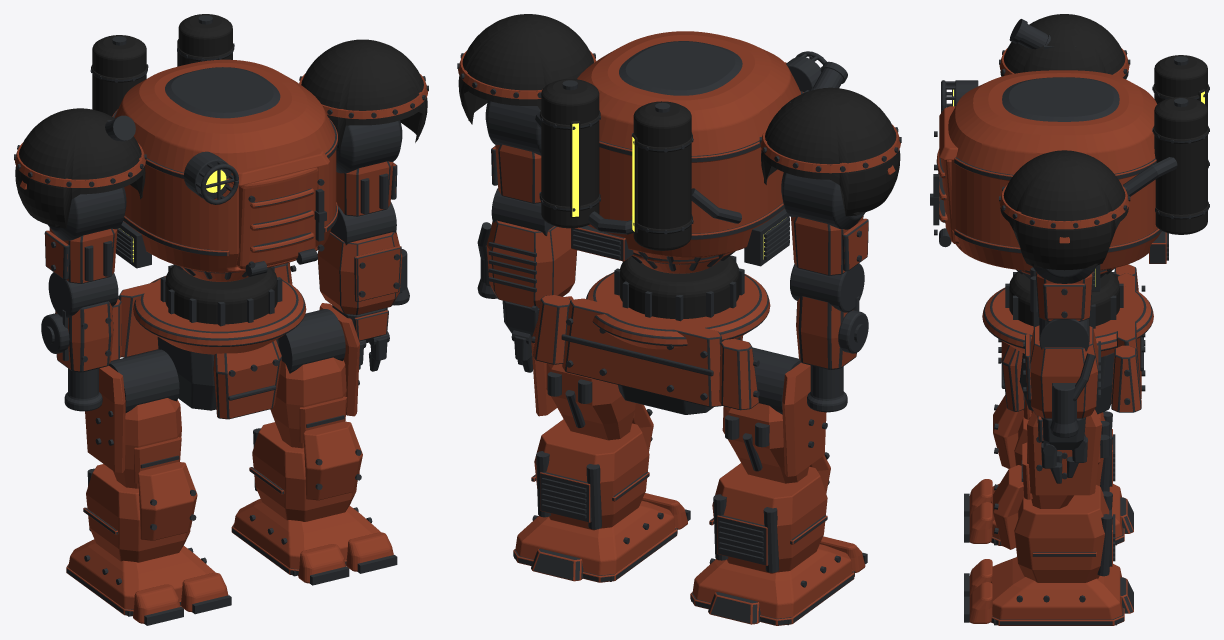
File: Titan_H1.fbx
3 views of the same model, side by side, from view 1: azimuth 30°, elevation 25°; view 2: azimuth 150°, elevation 25°; view 3: azimuth 270°, elevation 25° (orthographic). The views are drawn at different scales.
Visible parts, largest first — view 1: H1_Torso_Upper, H1_Pelvis, H1_Shoulder_R, H1_Thigh_R, H1_Thigh_L, H1_Shoulder_L, H1_Shin_R, H1_Shin_L, H1_Forearm_L, H1_Hatch, H1_Cannon, H1_UpperArm_R (+12 smaller); view 2: H1_Torso_Upper, H1_Pelvis, H1_Shoulder_R, H1_Shin_L, H1_Shin_R, H1_Shoulder_L, H1_Thigh_R, H1_Tank_R, H1_Forearm_L, H1_Tank_L, H1_Foot_L, H1_Foot_R (+13 smaller); view 3: H1_Torso_Upper, H1_Shoulder_L, H1_Shin_L, H1_Pelvis, H1_Forearm_L, H1_Foot_L, H1_Tank_L, H1_Shoulder_R, H1_Thigh_L, H1_UpperArm_L, H1_Shin_R, H1_Waist (+10 smaller).
Part boxes in pixels (left/top/right/bottom): H1_Torso_Upper: left=112, top=59, right=337, bottom=272; H1_Pelvis: left=111, top=262, right=306, bottom=419; H1_Shoulder_R: left=14, top=108, right=146, bottom=228; H1_Thigh_R: left=85, top=349, right=181, bottom=488; H1_Thigh_L: left=270, top=303, right=359, bottom=448; H1_Shoulder_L: left=299, top=39, right=428, bottom=150; H1_Shin_R: left=83, top=462, right=197, bottom=562; H1_Shin_L: left=249, top=421, right=362, bottom=521; H1_Forearm_L: left=317, top=201, right=409, bottom=315; H1_Hatch: left=236, top=167, right=326, bottom=276; H1_Cannon: left=41, top=272, right=118, bottom=411; H1_UpperArm_R: left=44, top=187, right=126, bottom=283; H1_Torso_Upper: left=571, top=31, right=803, bottom=261; H1_Pelvis: left=531, top=272, right=770, bottom=414; H1_Shoulder_R: left=759, top=61, right=901, bottom=216; H1_Shin_L: left=531, top=403, right=653, bottom=530; H1_Shin_R: left=709, top=452, right=830, bottom=573; H1_Shoulder_L: left=457, top=14, right=596, bottom=124; H1_Thigh_R: left=722, top=347, right=827, bottom=483; H1_Tank_R: left=631, top=101, right=693, bottom=250; H1_Forearm_L: left=477, top=187, right=577, bottom=308; H1_Tank_L: left=539, top=79, right=600, bottom=228; H1_Foot_L: left=513, top=500, right=677, bottom=582; H1_Foot_R: left=690, top=544, right=854, bottom=625; H1_Torso_Upper: left=939, top=70, right=1168, bottom=270; H1_Shoulder_L: left=999, top=150, right=1130, bottom=270; H1_Shin_L: left=993, top=465, right=1115, bottom=582; H1_Pelvis: left=982, top=264, right=1153, bottom=414; H1_Forearm_L: left=1023, top=318, right=1100, bottom=437; H1_Foot_L: left=991, top=557, right=1133, bottom=625; H1_Tank_L: left=1152, top=96, right=1209, bottom=234; H1_Shoulder_R: left=999, top=14, right=1130, bottom=79; H1_Thigh_L: left=1021, top=409, right=1109, bottom=508; H1_UpperArm_L: left=1030, top=266, right=1096, bottom=321; H1_Shin_R: left=993, top=394, right=1115, bottom=491; H1_Waist: left=1005, top=271, right=1123, bottom=328.
Size of the model in its own units: 5.09 by 5.96 by 3.12.
